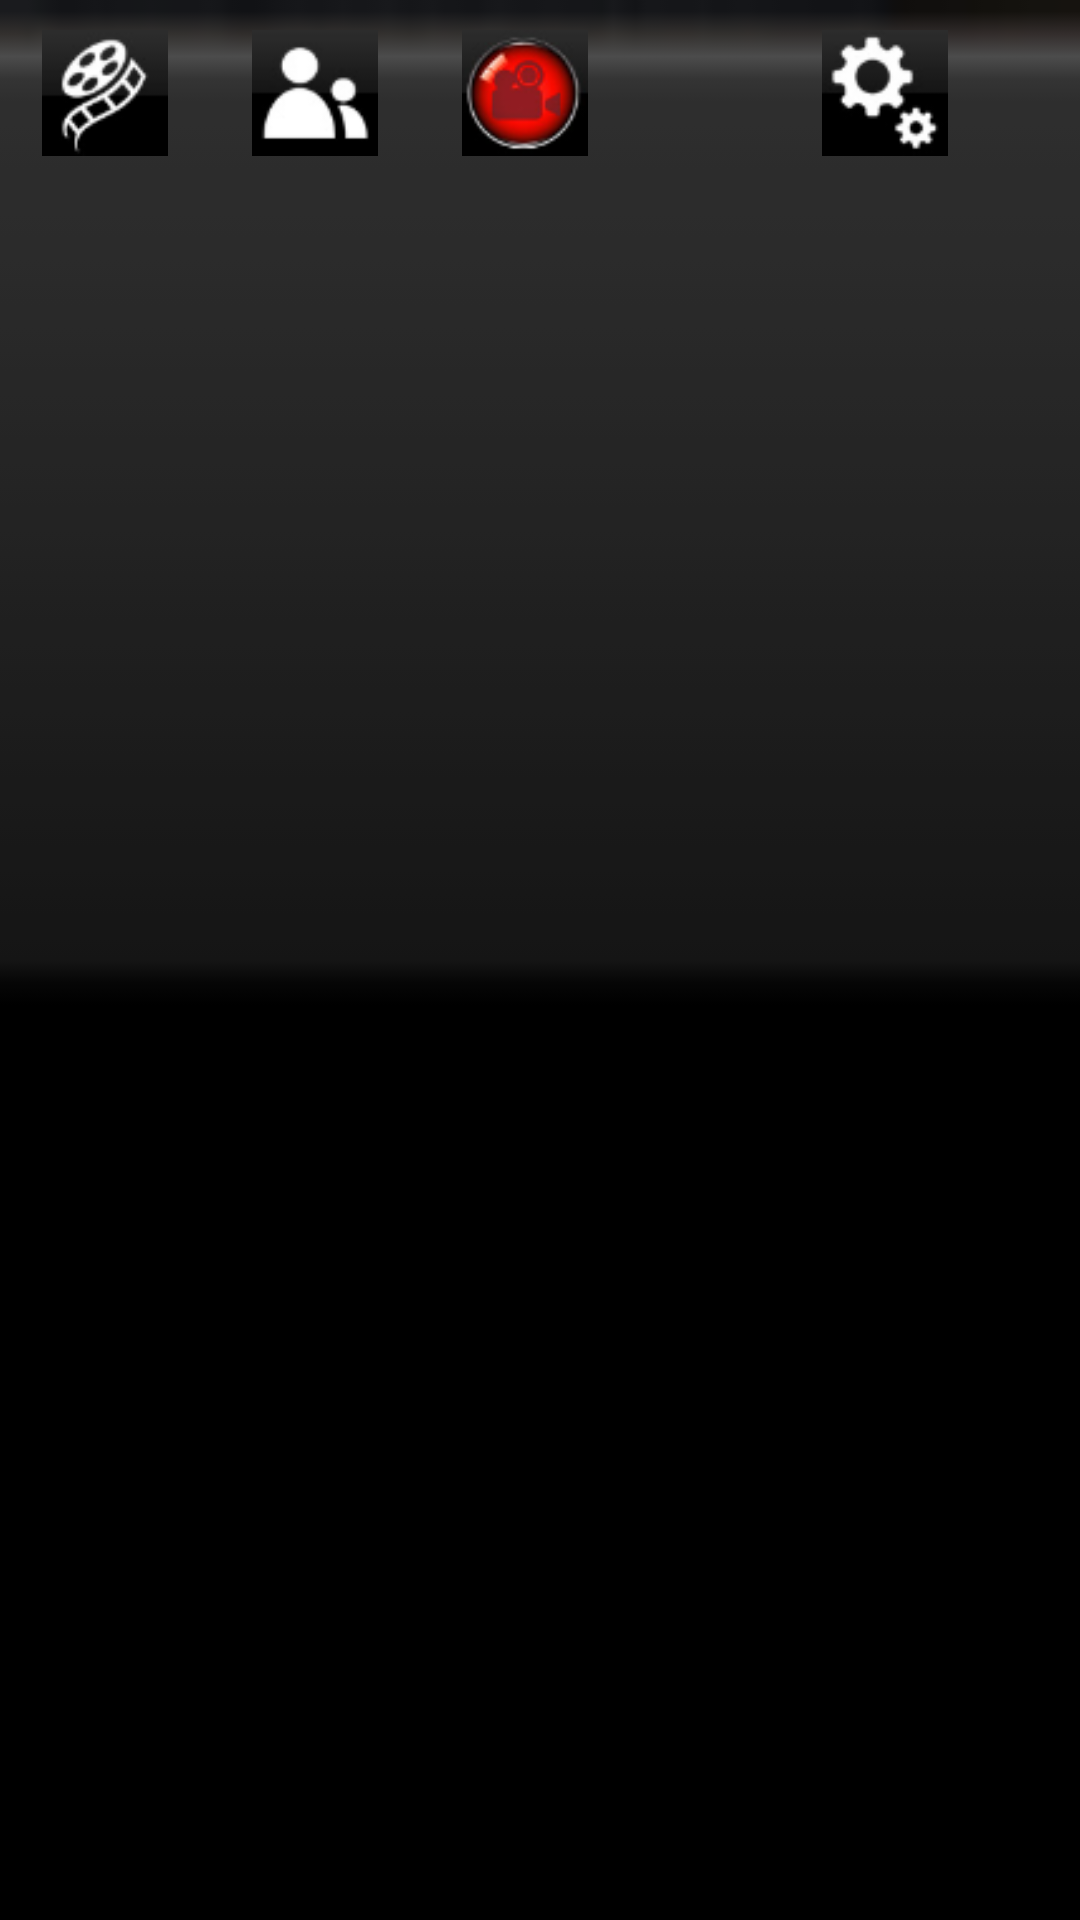

Icon click points for this 1080px×1920px phone screenshot, format (x=x, y=y):
friends: (x=315, y=101)
record: (x=525, y=97)
settings: (x=885, y=96)
